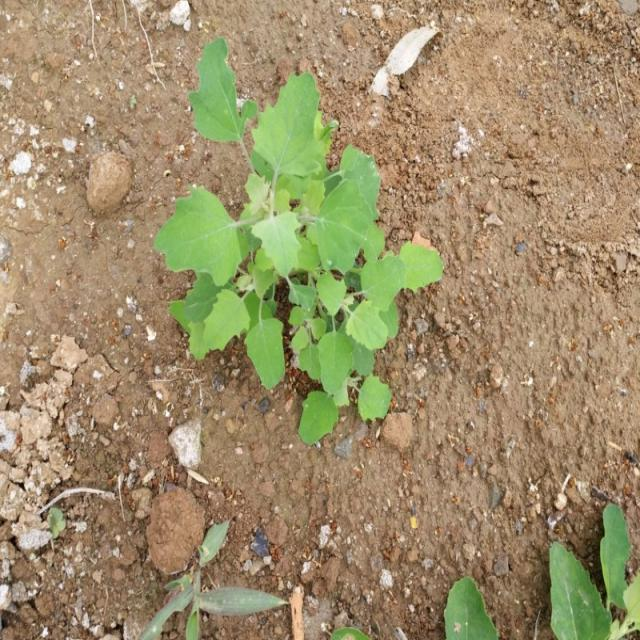ca: (156, 35, 442, 440)
